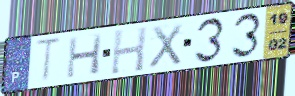3: (190, 16, 228, 65), (227, 11, 265, 60)
H: (109, 25, 149, 77), (65, 32, 105, 80)
T: (33, 36, 64, 85)
X: (146, 22, 184, 71)
